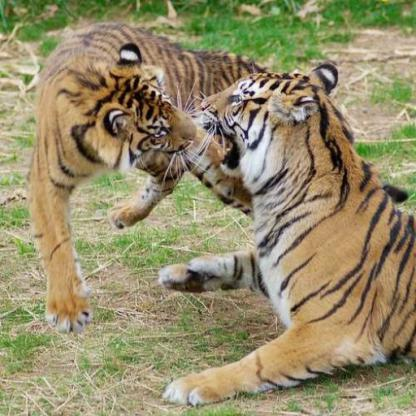Tiger: (158, 59, 414, 402), (26, 19, 199, 334)
